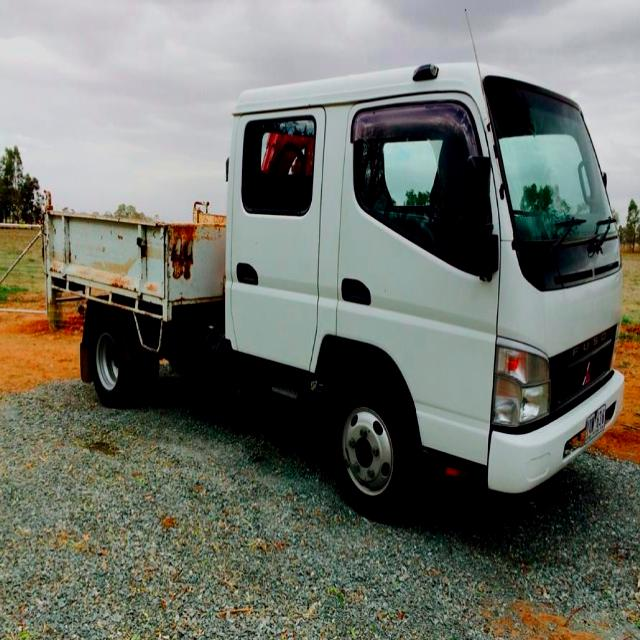truck: (44, 63, 640, 512)
